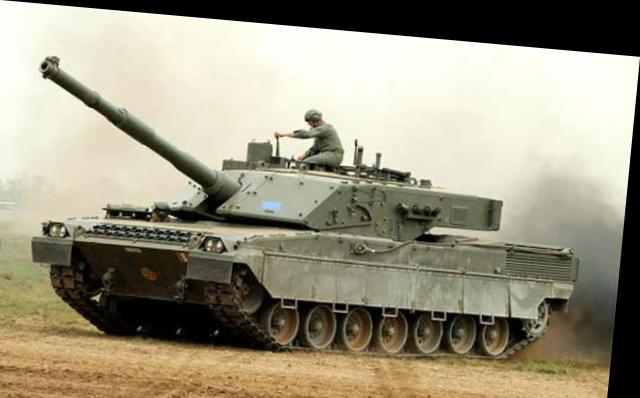tank: (49, 136, 571, 355)
